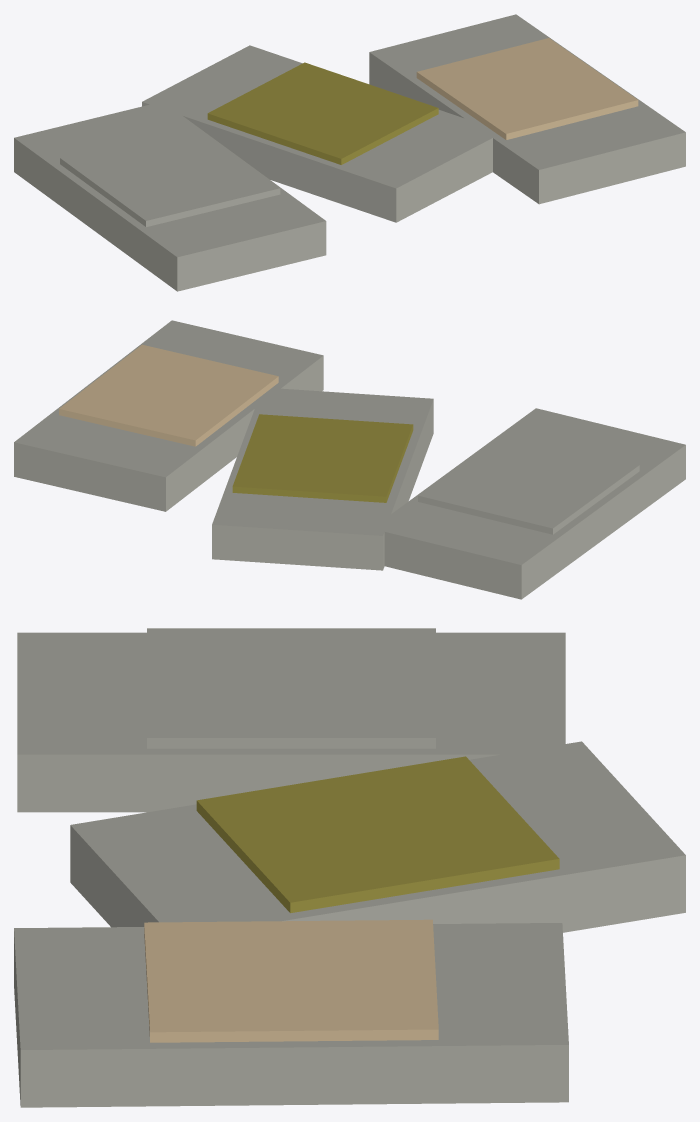
Rendered from SM_Tienda_v3_Colchones_LOD1.fbx.
The picture shows the model from 3 angles, top to bottom: view 1: azimuth 30°, elevation 25°; view 2: azimuth 150°, elevation 25°; view 3: azimuth 270°, elevation 25°; orthographic projection. The views are drawn at different scales.
Parts seen in each view (by area): view 1: SM_vida_fuerte_v18_LOD1; view 2: SM_vida_fuerte_v18_LOD1; view 3: SM_vida_fuerte_v18_LOD1.
Part boxes in pixels (box(x1,y1,x2,y2)): SM_vida_fuerte_v18_LOD1: box(14, 14, 685, 291); SM_vida_fuerte_v18_LOD1: box(14, 320, 685, 599); SM_vida_fuerte_v18_LOD1: box(14, 628, 685, 1107).
Bounding box in the file's own units: 3.42 × 0.26 × 2.33.
